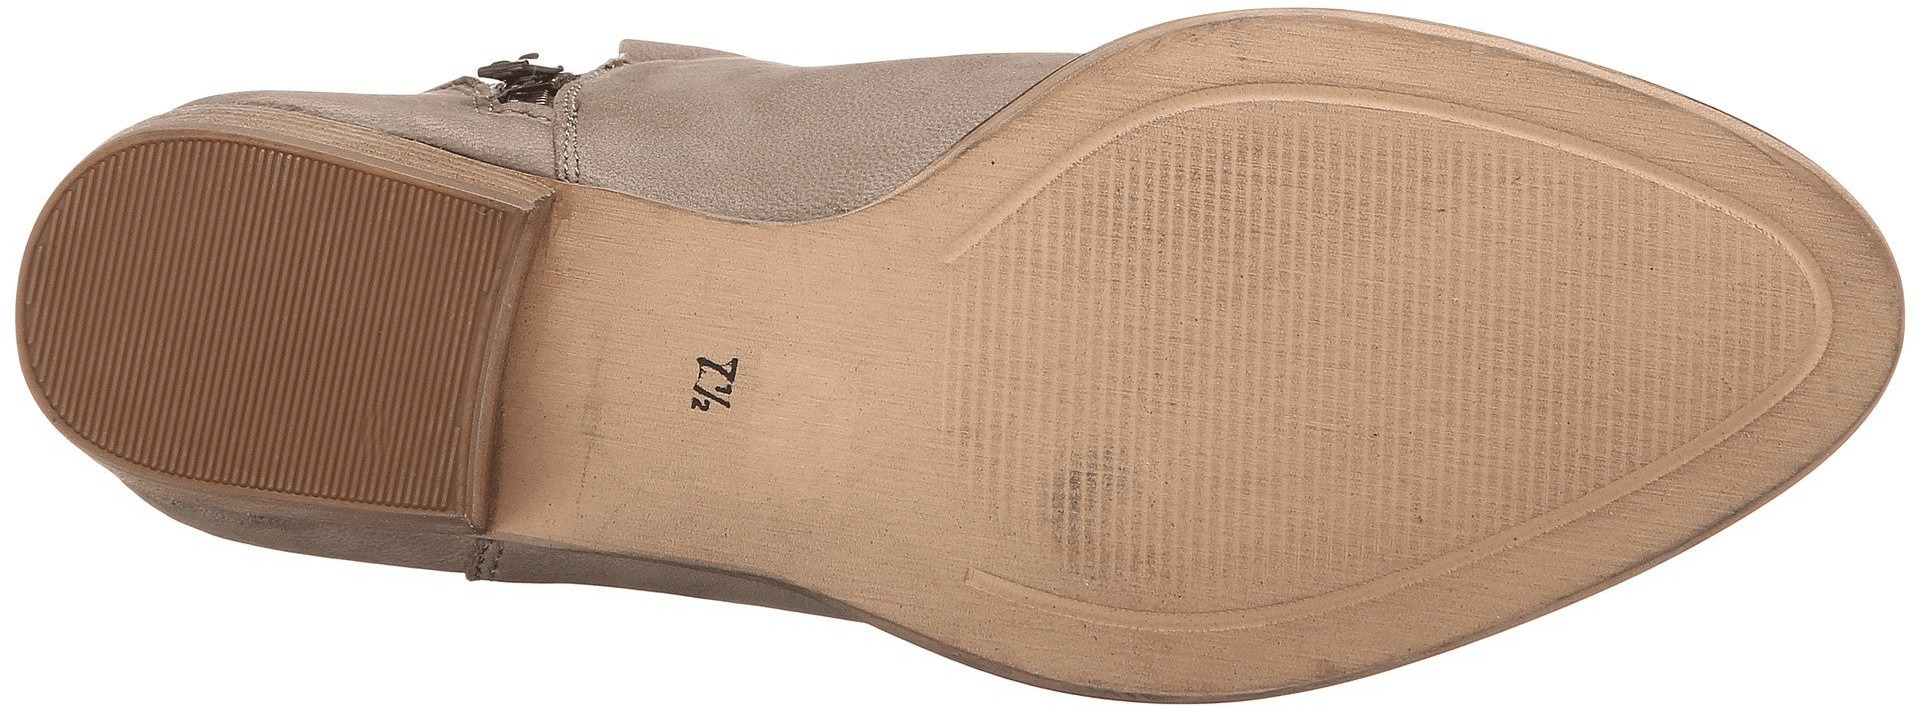other: (1265, 140, 1613, 488), (944, 271, 1239, 544), (51, 225, 276, 445), (280, 235, 475, 411), (1629, 241, 1774, 388)
